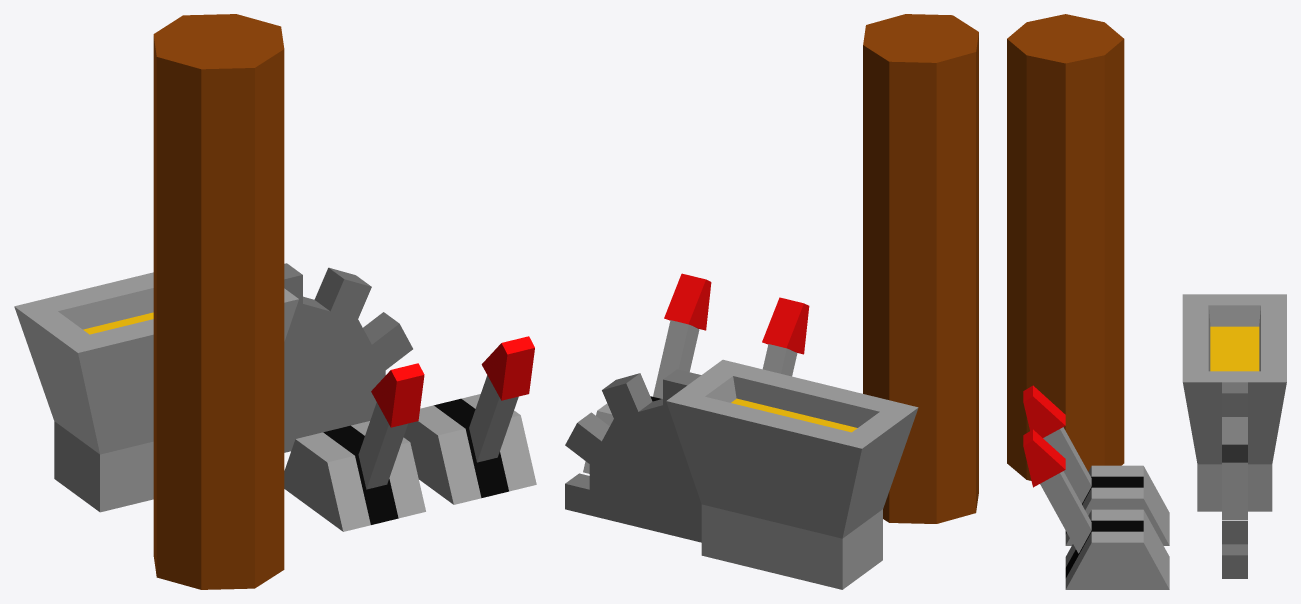
File: milltop.obj
3 views of the same model, side by side, from view 1: azimuth 30°, elevation 25°; view 2: azimuth 150°, elevation 25°; view 3: azimuth 270°, elevation 25° (orthographic). The views are drawn at different scales.
Parts seen in each view (by area): view 1: milltop_back; view 2: milltop_back; view 3: milltop_back.
Boxes of the visible parts, x1=… form: milltop_back: x1=14, y1=14, x2=536, y2=589; milltop_back: x1=565, y1=14, x2=978, y2=589; milltop_back: x1=1007, y1=14, x2=1286, y2=589.
Size of the model in its own units: 2.24 by 2.88 by 1.72.
